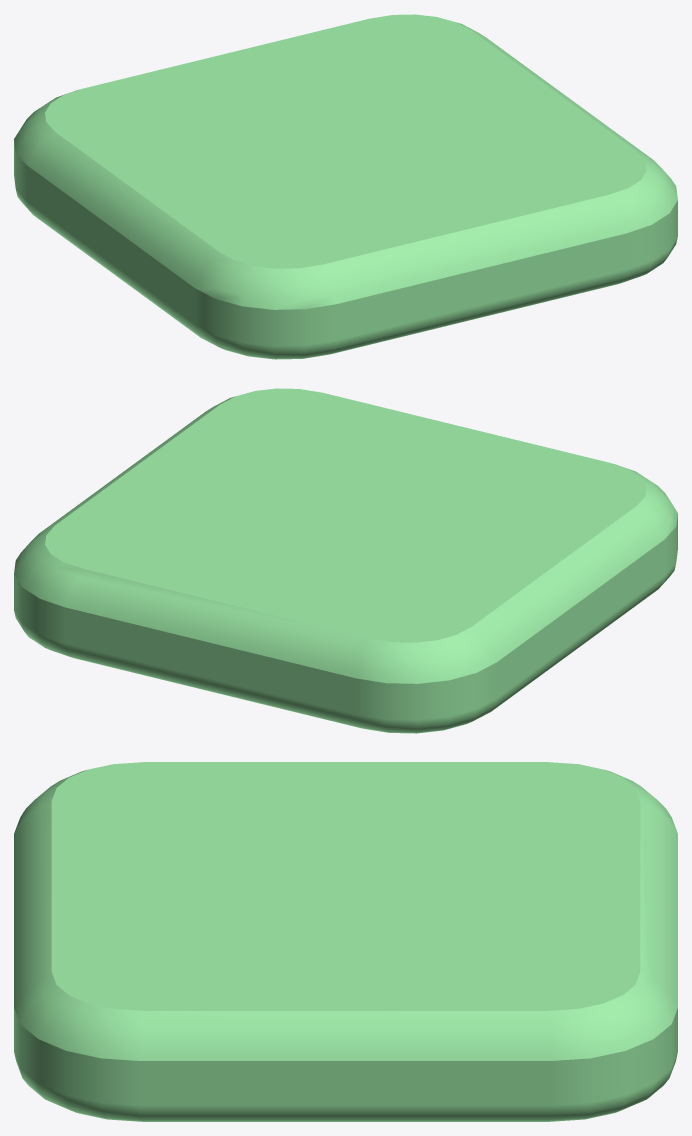
The model's file is Object_button_01.fbx.
3 views of the same model, one above another, from view 1: azimuth 30°, elevation 25°; view 2: azimuth 150°, elevation 25°; view 3: azimuth 270°, elevation 25° (orthographic). The views are drawn at different scales.
Parts seen in each view (by area): view 1: main.001; view 2: main.001; view 3: main.001.
Part boxes in pixels (x1=…): main.001: x1=14, y1=14, x2=677, y2=359; main.001: x1=14, y1=388, x2=677, y2=733; main.001: x1=14, y1=762, x2=677, y2=1121.
Size of the model in its own units: 200 by 34.75 by 200.
